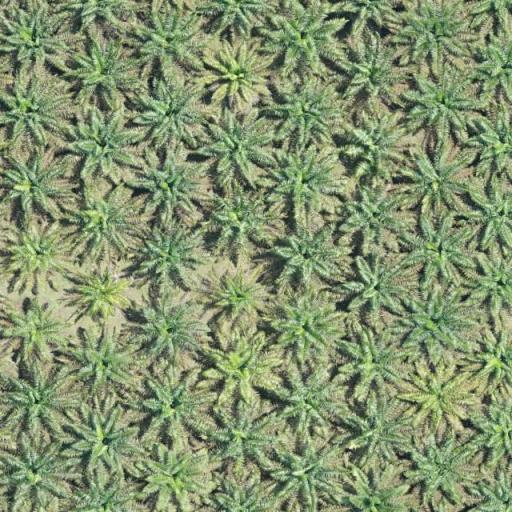Ganoderma: (83, 276, 123, 312)
